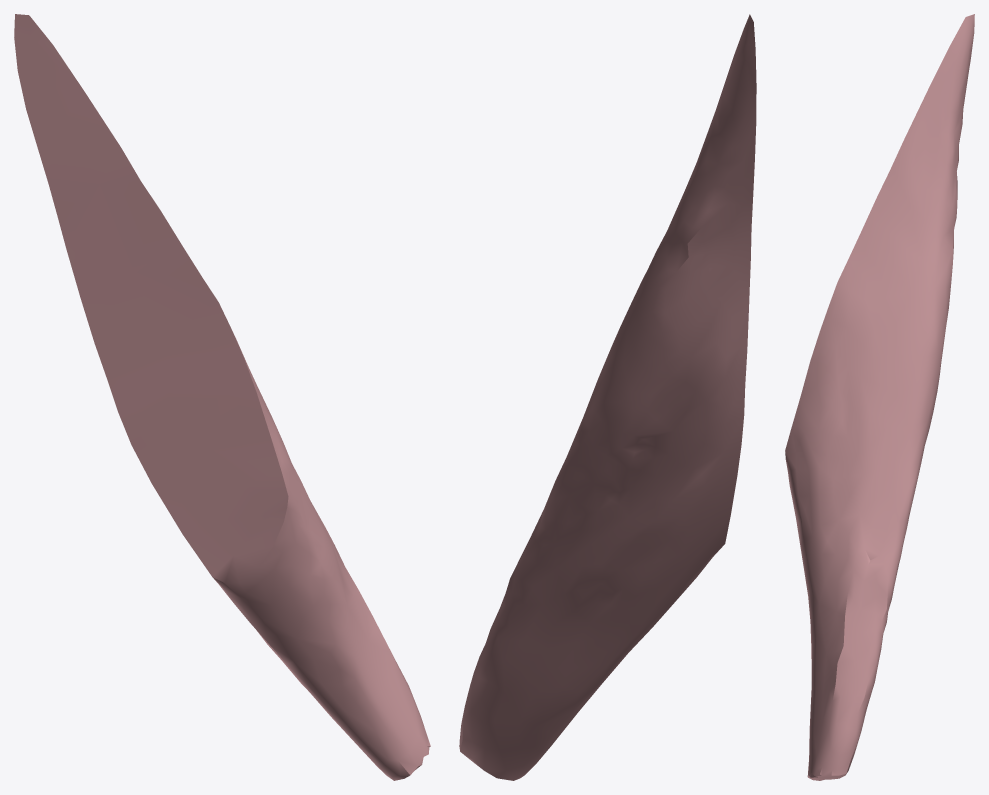
The model's file is fma297814_mm1854m.glb.
3 renders of one model, left to right at view 1: azimuth 30°, elevation 25°; view 2: azimuth 150°, elevation 25°; view 3: azimuth 270°, elevation 25°, orthographic. The views are drawn at different scales.
Visible parts, largest first — view 1: FMA297814_MM1854M; view 2: FMA297814_MM1854M; view 3: FMA297814_MM1854M.
Boxes of the visible parts, x1,y1,x2,y2 form: FMA297814_MM1854M: (14,14,430,780); FMA297814_MM1854M: (459,14,756,780); FMA297814_MM1854M: (785,14,974,780).
Bounding box in the file's own units: 0.0255 × 0.0571 × 0.0151.
